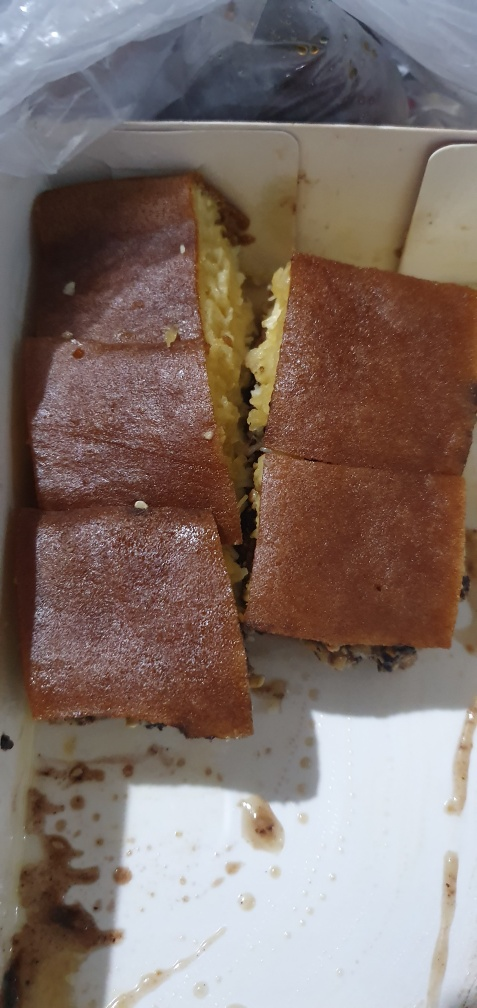martabak manis: (21, 515, 263, 772), (248, 238, 477, 470), (239, 452, 477, 664), (22, 331, 226, 575), (26, 172, 238, 345)
